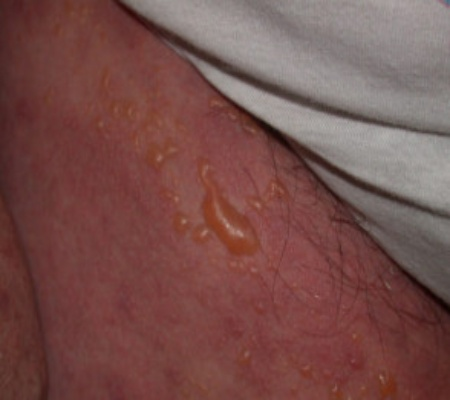SJS-TEN: (58, 10, 424, 400)
